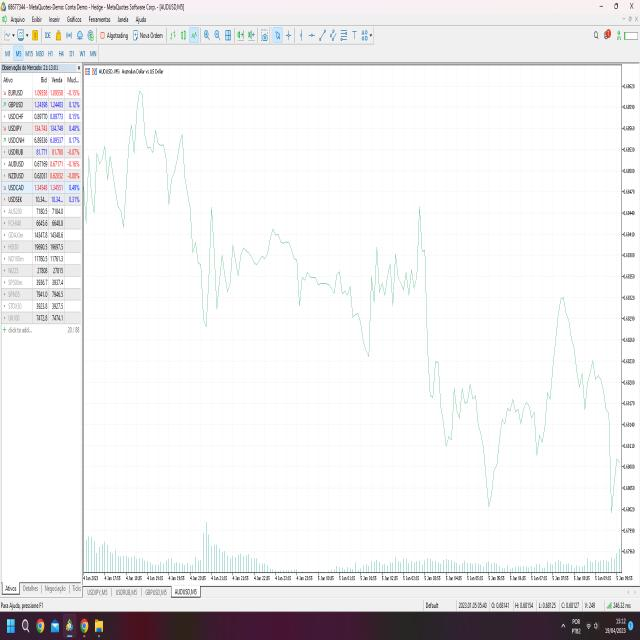bandeira_baixa: (418, 192, 481, 458)
oco: (121, 79, 170, 199)
oco_inv: (431, 338, 554, 518)
